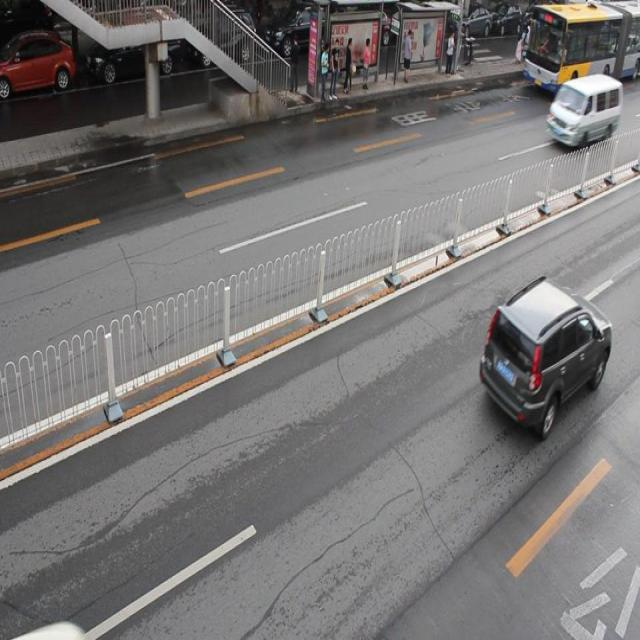car: (478, 276, 613, 424), (84, 27, 180, 86), (1, 34, 76, 100), (186, 1, 256, 66), (262, 1, 331, 59)
truck: (545, 71, 621, 149)
van: (525, 1, 640, 86)
